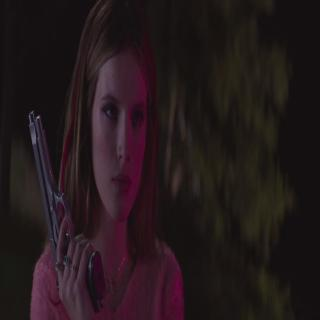gun: (27, 104, 106, 312)
